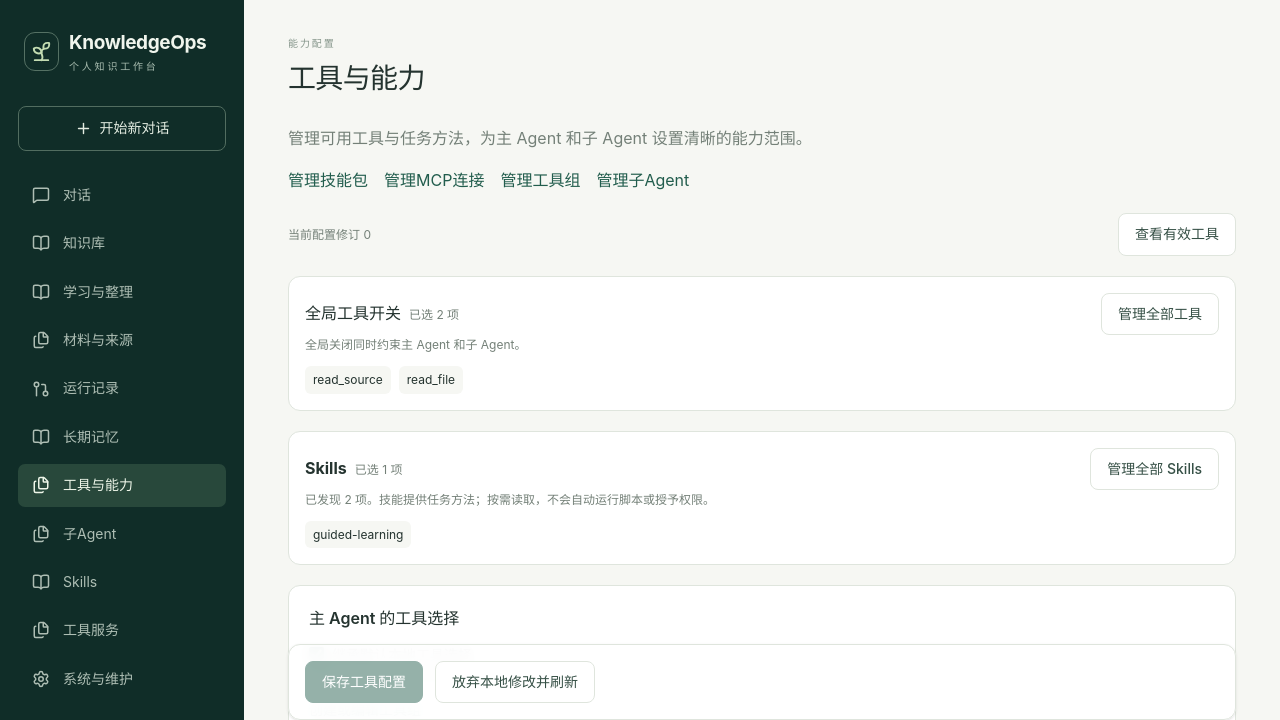
Test: shows imported but unavailable skills with reasons without enabling them
The image size is (1280, 720).
Click the button "管理全部 Skills".
click(1155, 469)  # box [1090, 448, 1219, 490]
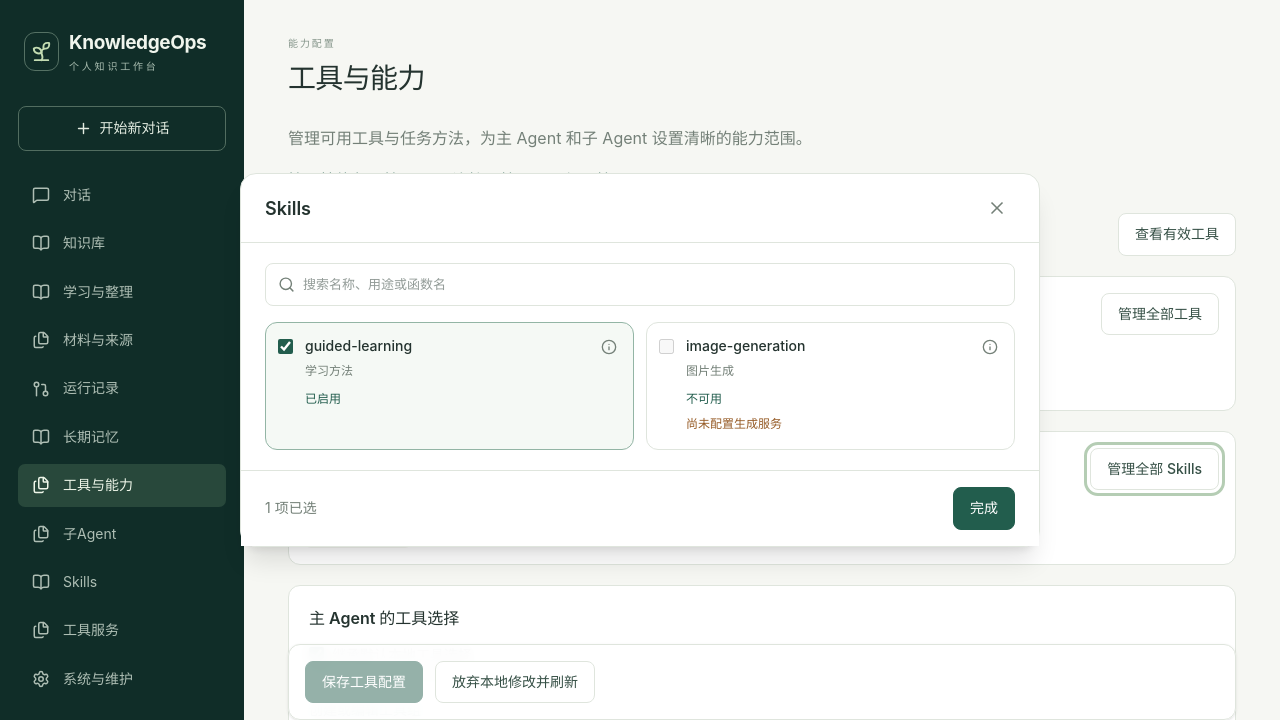
Check: the checkbox labelled "guided-learning" is checked, box [278, 339, 293, 354]
Check: the checkbox labelled "image-generation" is disabled, box [659, 339, 674, 354]
Check: the text "尚未配置生成服务" is shown, box [686, 416, 782, 431]
